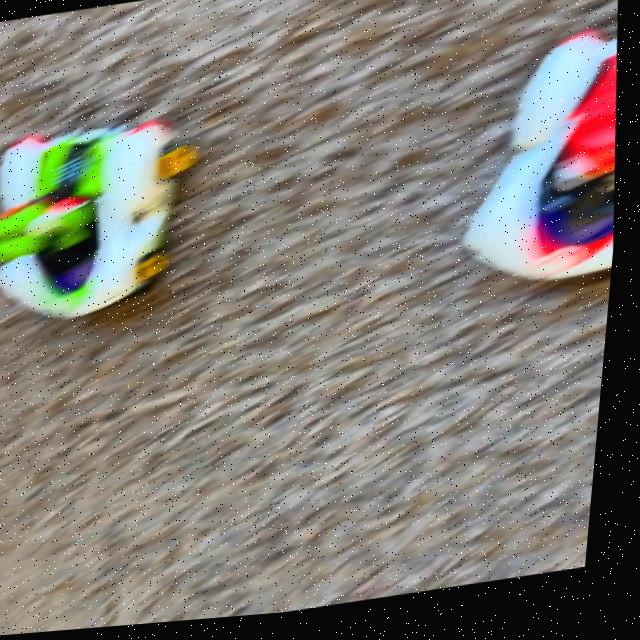mario: (435, 80, 631, 322)
yoshi: (0, 78, 230, 353)
